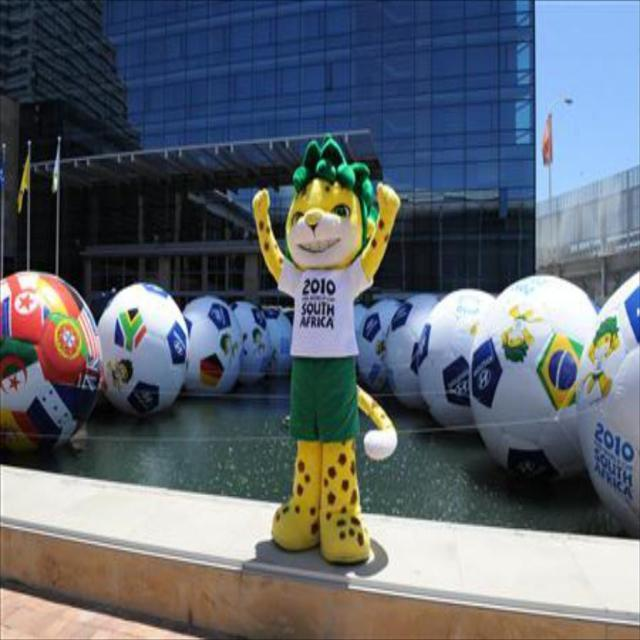football: (460, 272, 608, 473)
